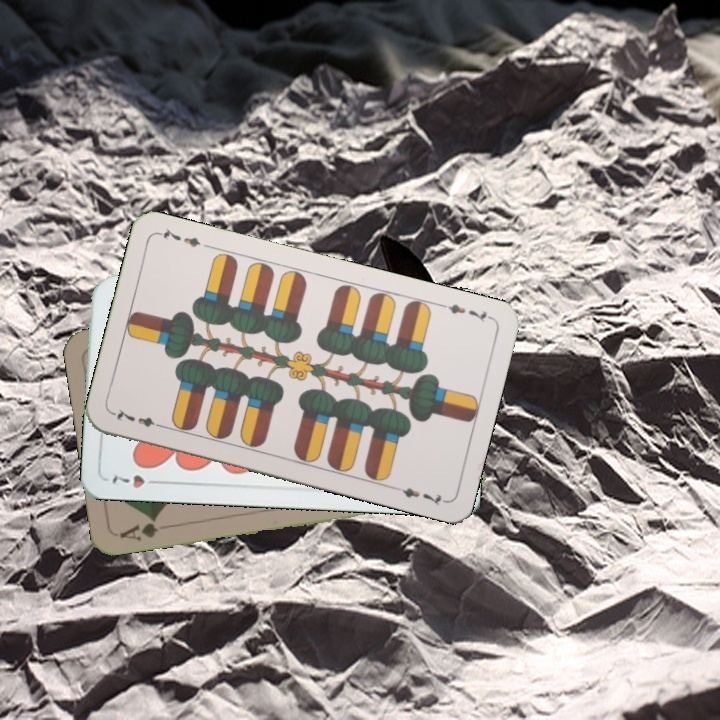E7: (109, 404, 167, 431), (436, 299, 495, 325)
GA: (116, 514, 161, 544)
H7: (108, 470, 164, 491)
